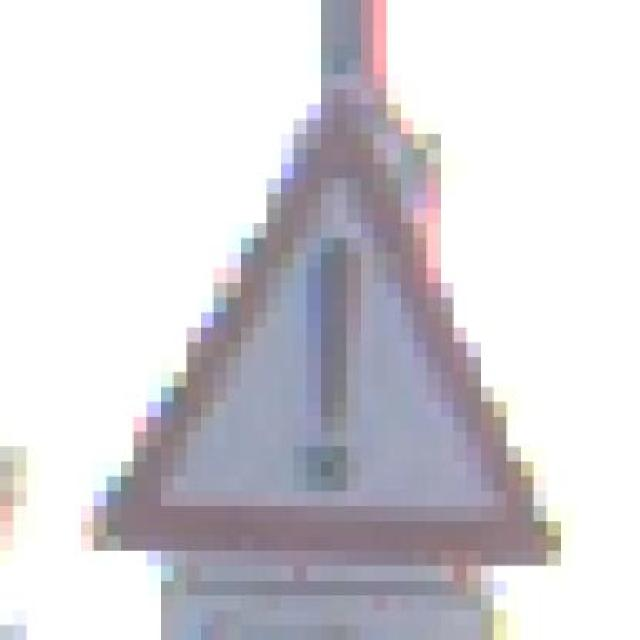Attention Please-: (67, 90, 587, 596)
